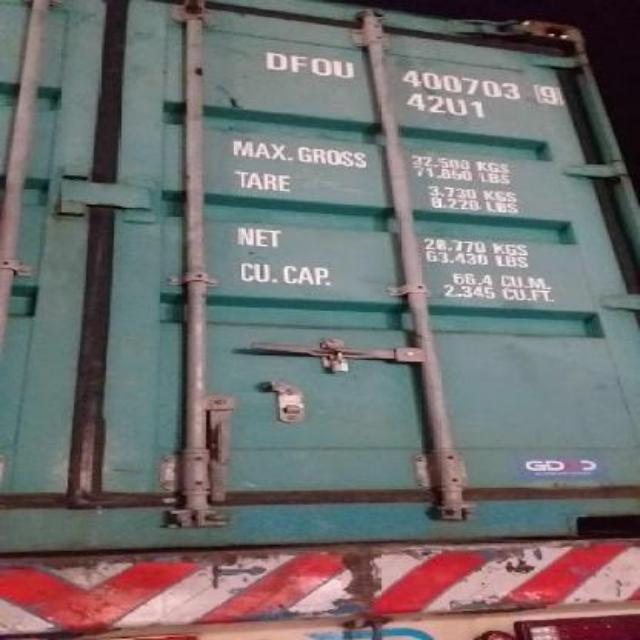0: (422, 65, 444, 91), (444, 72, 464, 96), (482, 76, 500, 100)
3: (500, 77, 520, 101)
4: (400, 66, 420, 90)
7: (462, 73, 480, 97)
9: (530, 84, 560, 106)
D: (262, 42, 286, 78)
F: (286, 46, 308, 80)
O: (310, 49, 334, 81)
U: (334, 55, 358, 81)
